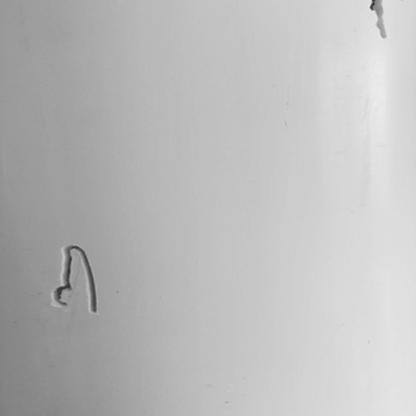fengxi: (53, 239, 99, 314)
kongdong: (360, 1, 401, 44)
